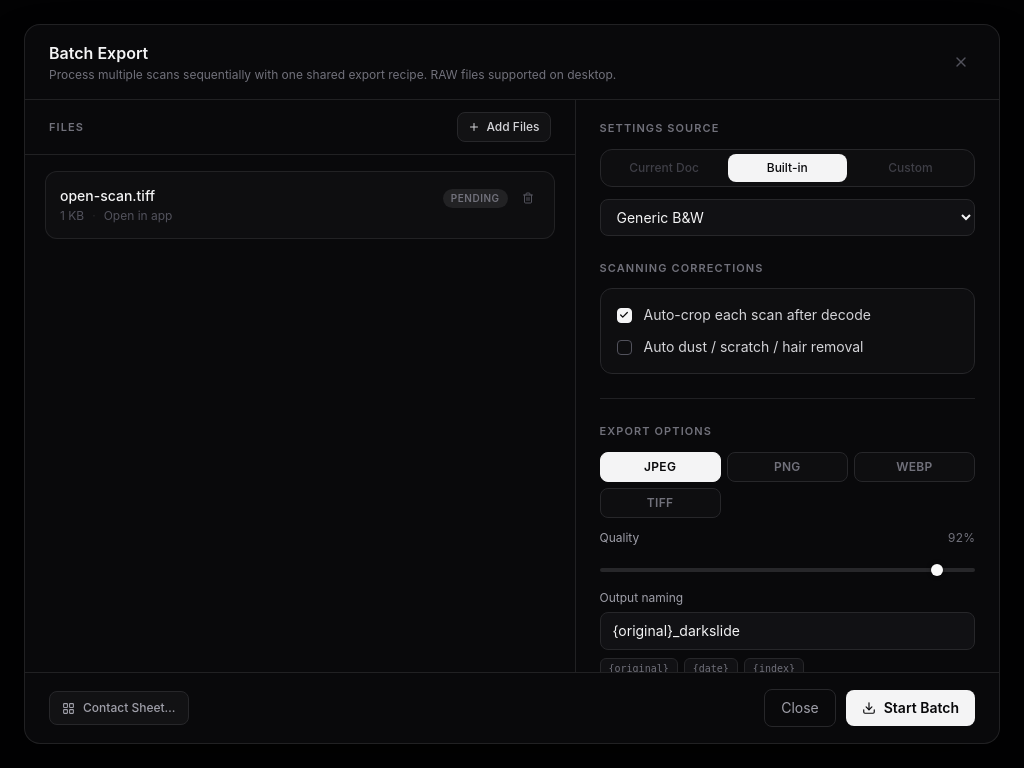
BatchModal › sends one completion notification when the batch succeeds
Check: the text "open-scan.tiff" is shown, box [60,187,155,204]
Click the button "Start Batch" at (910, 708), box [846,690,975,726]
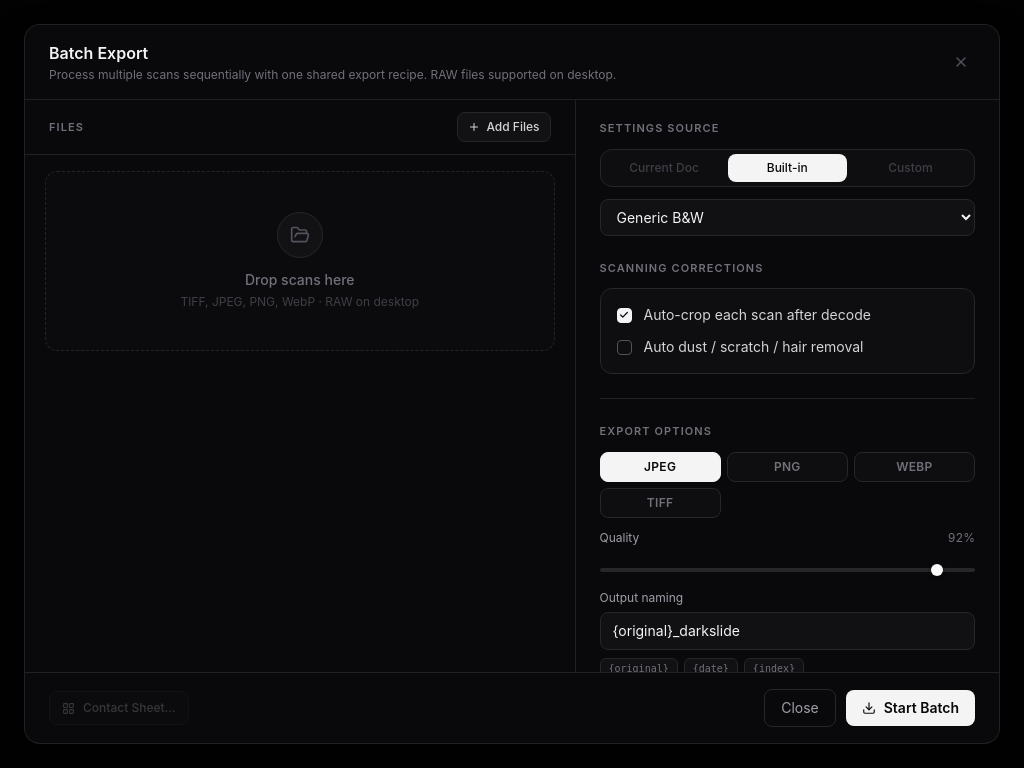
Check: the text "open-scan.tiff" is gone
